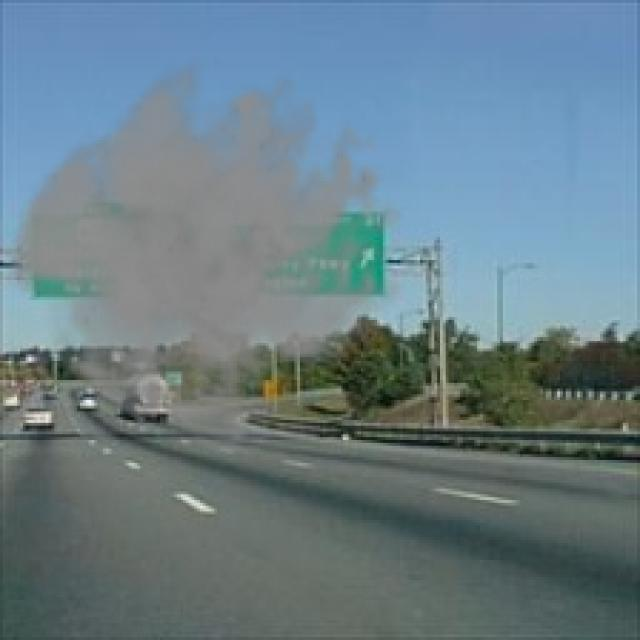smoke: (3, 48, 406, 463)
